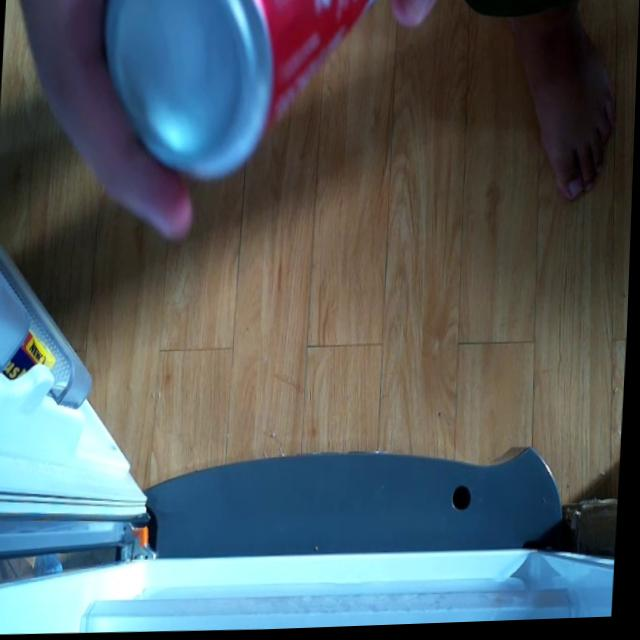coke: (97, 0, 385, 190)
